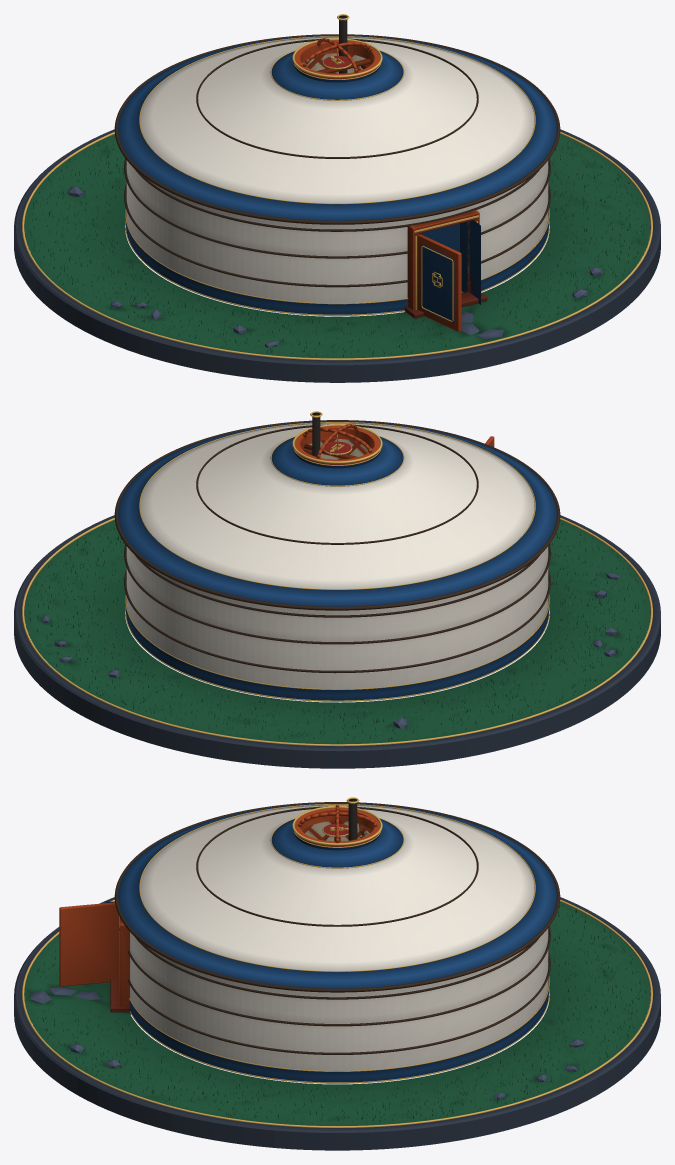
The model's file is ger-realtime.glb.
The picture shows the model from 3 angles, top to bottom: view 1: azimuth 30°, elevation 25°; view 2: azimuth 150°, elevation 25°; view 3: azimuth 270°, elevation 25°; orthographic projection.
Visible parts, largest first — view 1: ger_shell, item_toono_soyombo; view 2: ger_shell, item_toono_soyombo; view 3: ger_shell, item_toono_soyombo.
Part boxes in pixels (left/top/right/bottom): ger_shell: left=14, top=34, right=660, bottom=382; item_toono_soyombo: left=292, top=38, right=382, bottom=77; ger_shell: left=14, top=420, right=660, bottom=768; item_toono_soyombo: left=292, top=424, right=382, bottom=463; ger_shell: left=14, top=802, right=660, bottom=1150; item_toono_soyombo: left=292, top=806, right=382, bottom=845.
Size of the model in its own units: 9.2 by 3.47 by 9.2.
